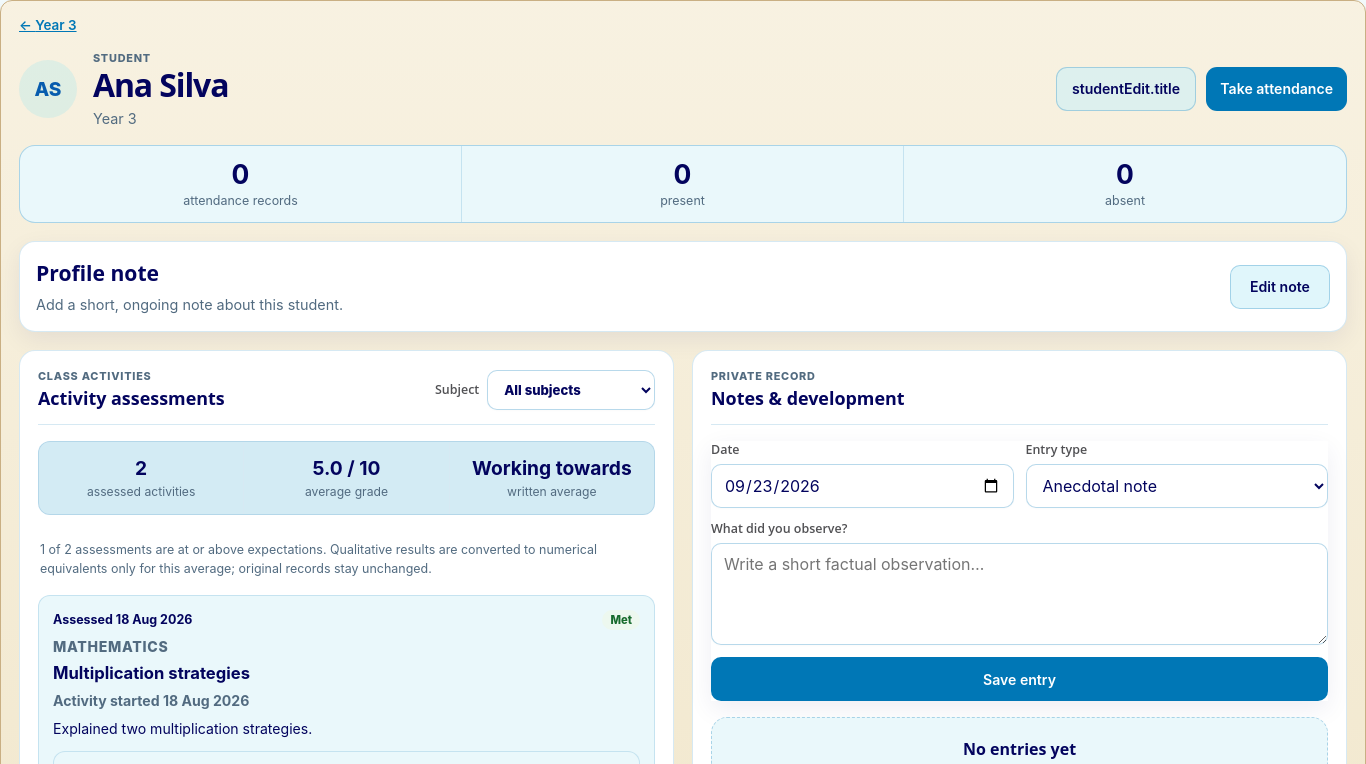
Test: filters activity performance by the selected subject
This screenshot has width=1366, height=764.
Check: the text "Explained two multiplication strategies." is shown, box 53,720 -> 312,736
Check: the text "5.0 / 10" is shown, box 312,456 -> 380,480
Select "Mathematics" in the dropdown named "Filter activity assessments by subject" at x=571, y=390, box 487,370 -> 655,410
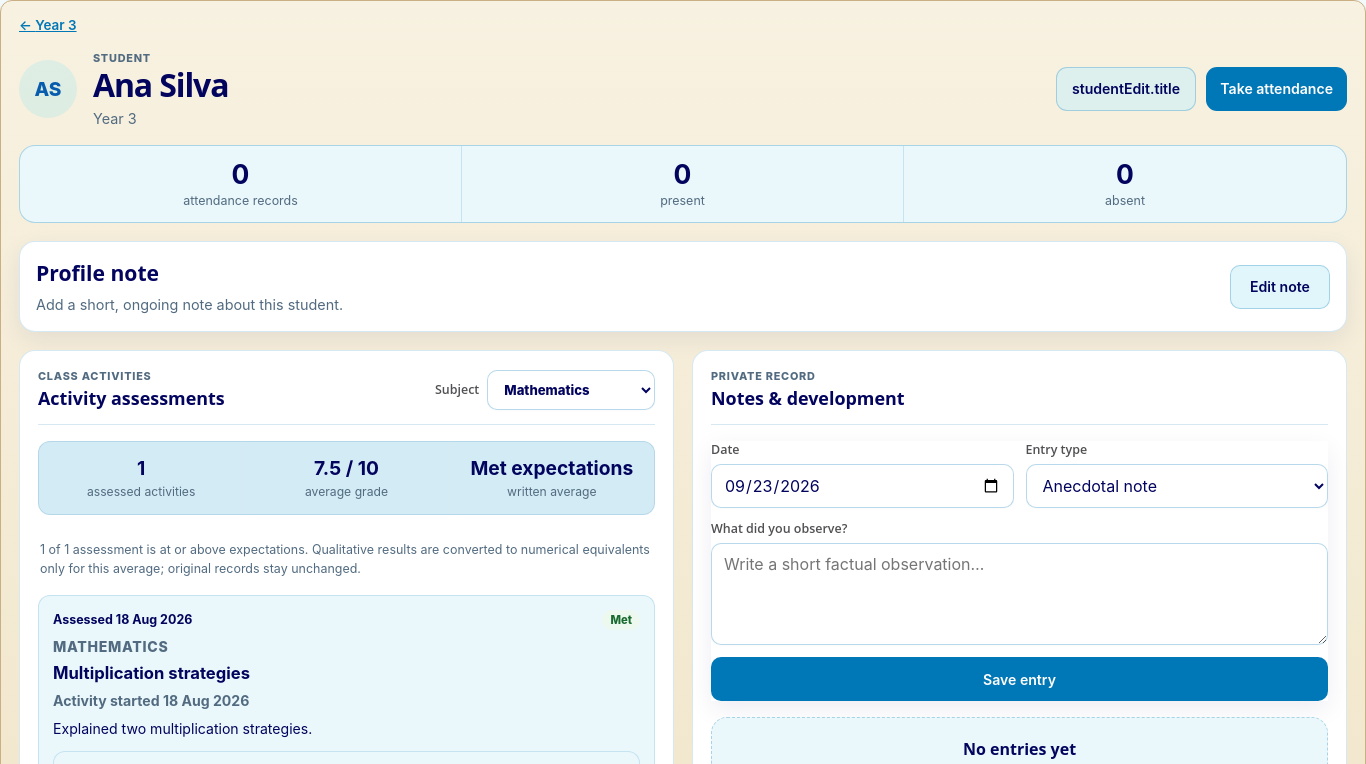
Check: the text "1" is shown, box 137,456 -> 145,480
Check: the text "7.5 / 10" is shown, box 314,456 -> 379,480
Check: the text "Met expectations" is shown, box 470,456 -> 633,480
